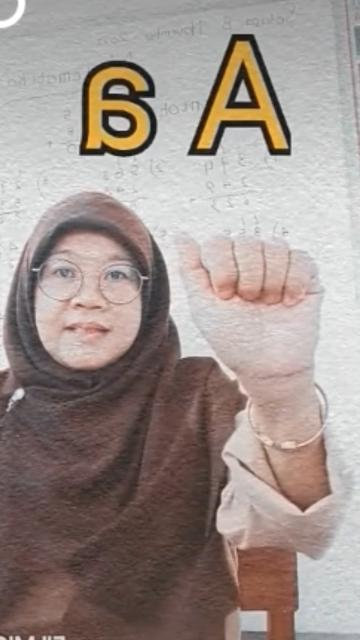A: (168, 224, 328, 372)
